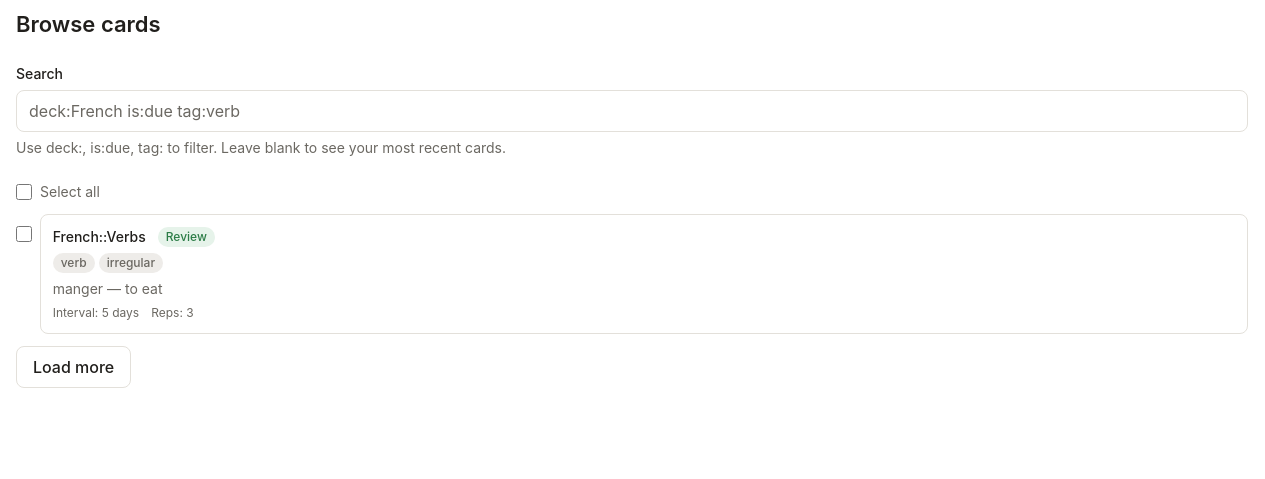
Test: BrowseScreen › clicking "Load more" requests the next cursor and appends results without losing the first page
Expected: the text "French::Verbs" is shown, [53,227,146,247]
Click the button "Load more": (74, 367) [16,346,131,388]
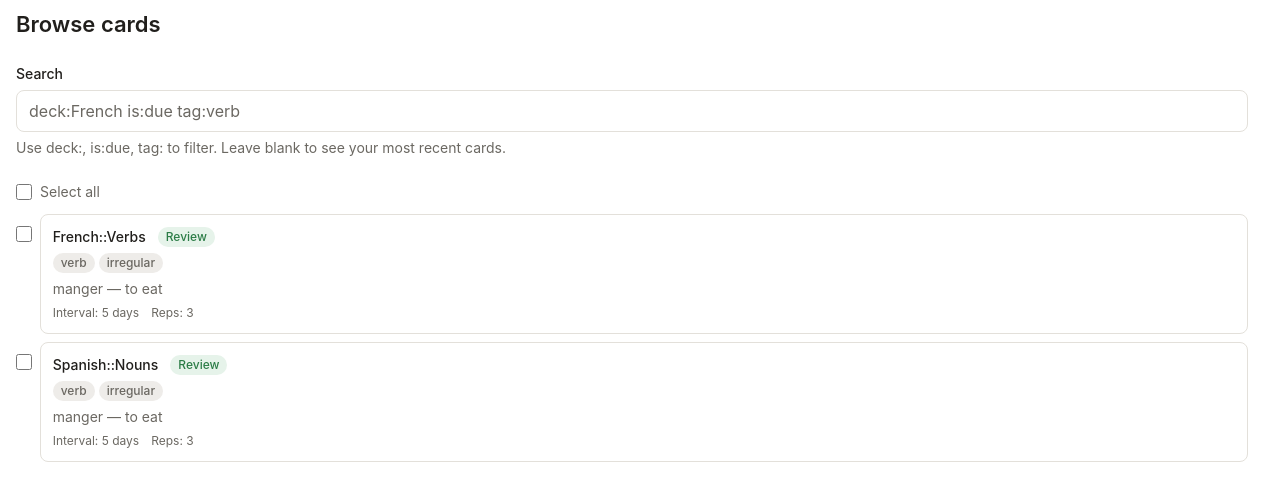
Expected: the text "French::Verbs" is shown, [53,227,146,247]
Now the text "Spanish::Nouns" is shown, box [53,355,158,375]
